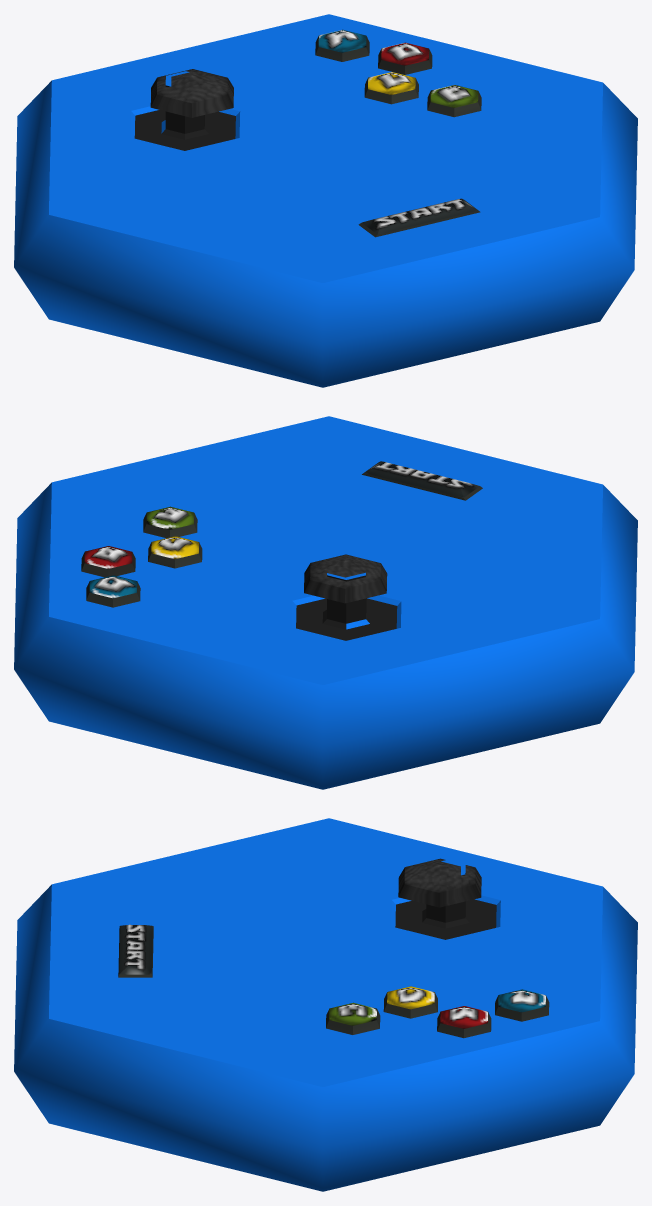
The model's file is Controller_04.FBX.
3 renders of one model, top to bottom at view 1: azimuth 30°, elevation 25°; view 2: azimuth 150°, elevation 25°; view 3: azimuth 270°, elevation 25°, orthographic.
Parts seen in each view (by area): view 1: Controller; view 2: Controller; view 3: Controller.
Boxes of the visible parts, x1,y1,x2,y2 form: Controller: [14, 14, 637, 387]; Controller: [14, 416, 637, 789]; Controller: [14, 818, 637, 1191].
Bounding box in the file's own units: 27.96 × 6.66 × 24.34.
